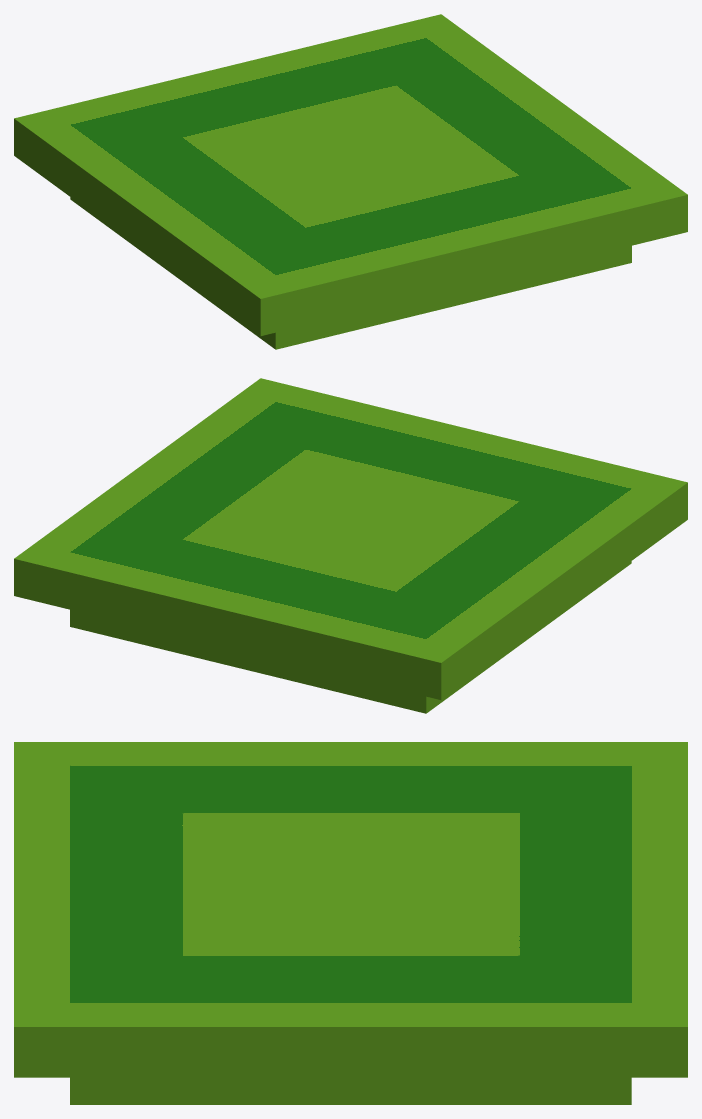
Rendered from PlatoGood.fbx.
The picture shows the model from 3 angles, top to bottom: view 1: azimuth 30°, elevation 25°; view 2: azimuth 150°, elevation 25°; view 3: azimuth 270°, elevation 25°; orthographic projection. The views are drawn at different scales.
Visible parts, largest first — view 1: PlatoGood; view 2: PlatoGood; view 3: PlatoGood.
Boxes of the visible parts, <box> form: PlatoGood: <box>14,14,687,349</box>; PlatoGood: <box>14,378,687,713</box>; PlatoGood: <box>14,742,687,1104</box>.
Size of the model in its own units: 1.18 by 0.1973 by 1.18.
